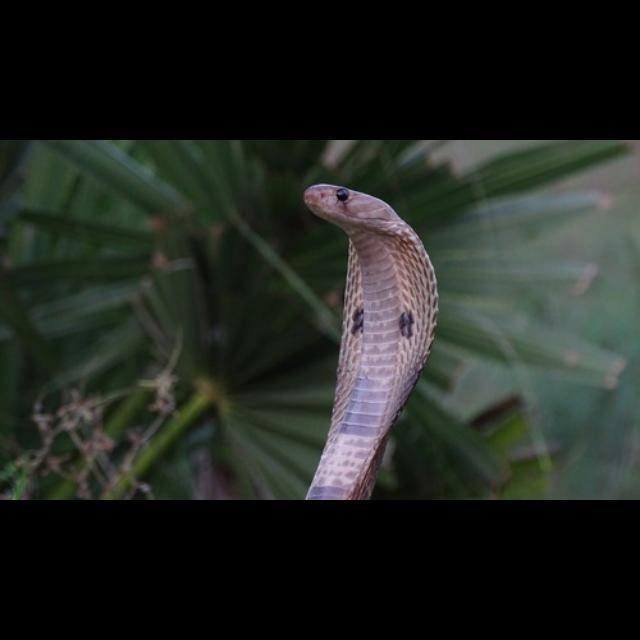snake: (300, 178, 440, 502)
